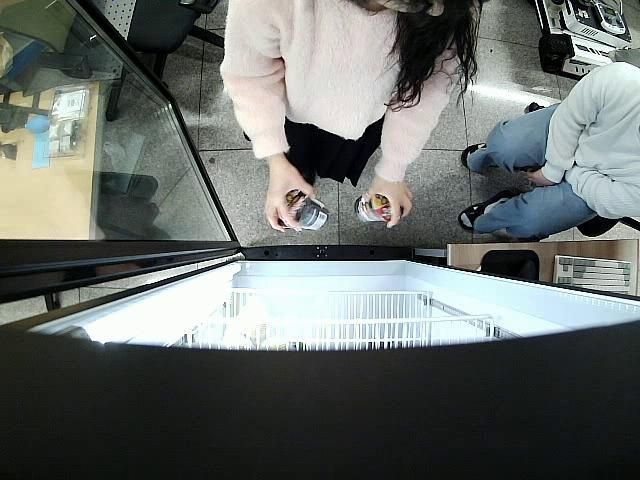08_buldak_S: (276, 190, 329, 230), (354, 192, 404, 224)
